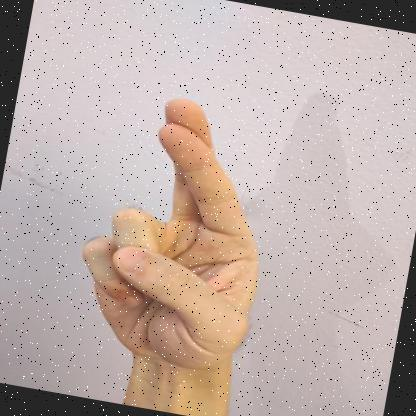R: (82, 98, 257, 374)
